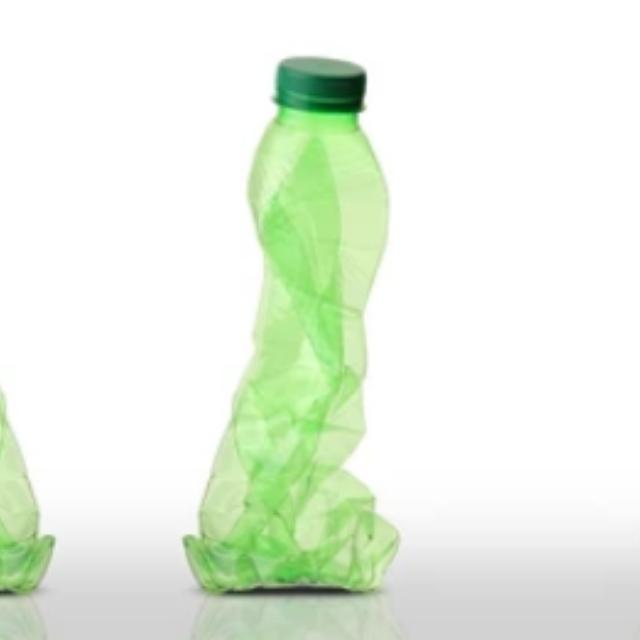Plastic: (158, 43, 444, 614), (0, 43, 77, 614), (596, 43, 640, 614)
